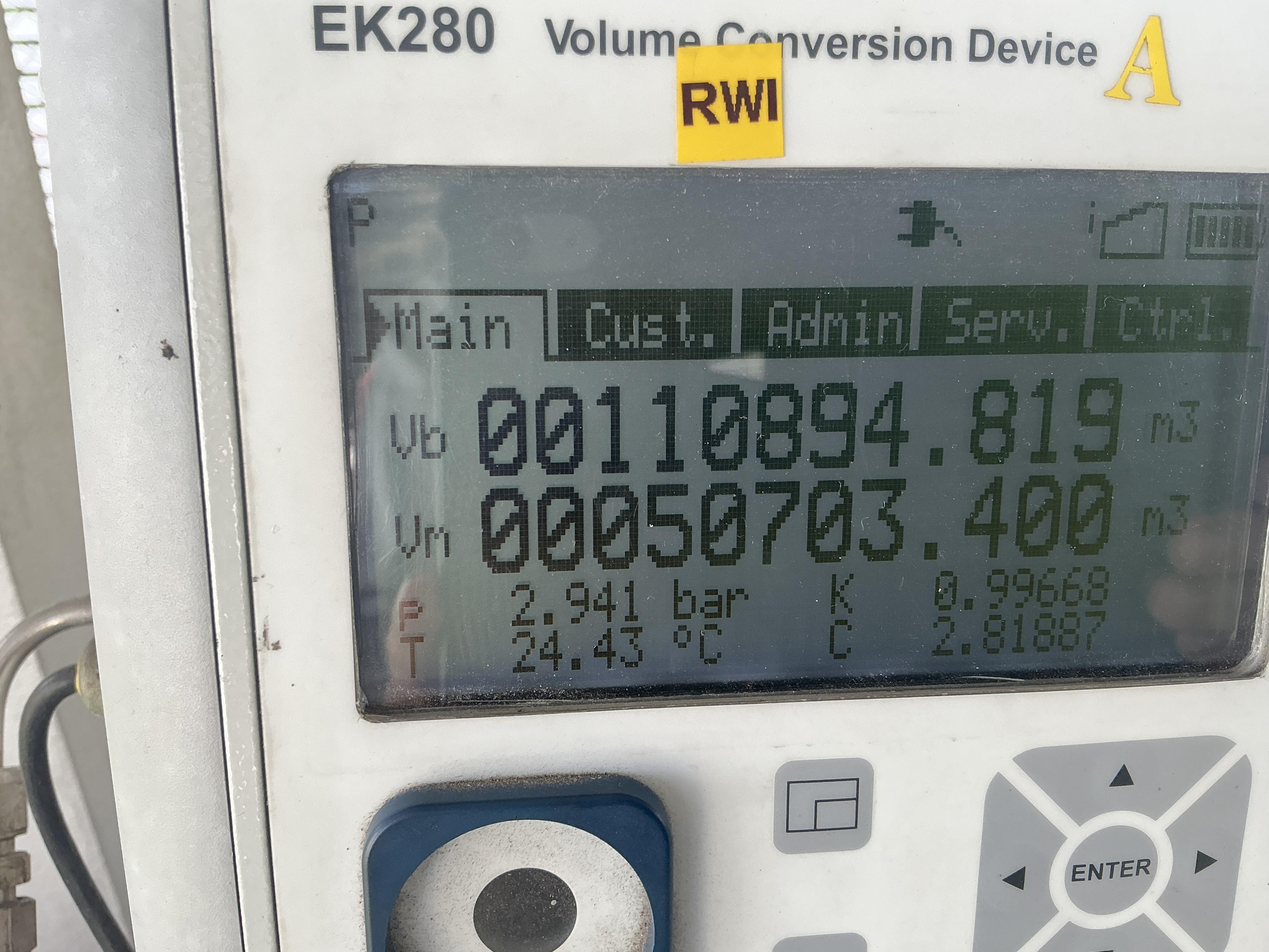digital_screen: (333, 162, 1269, 720)
